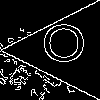O: (42, 25, 86, 70)
